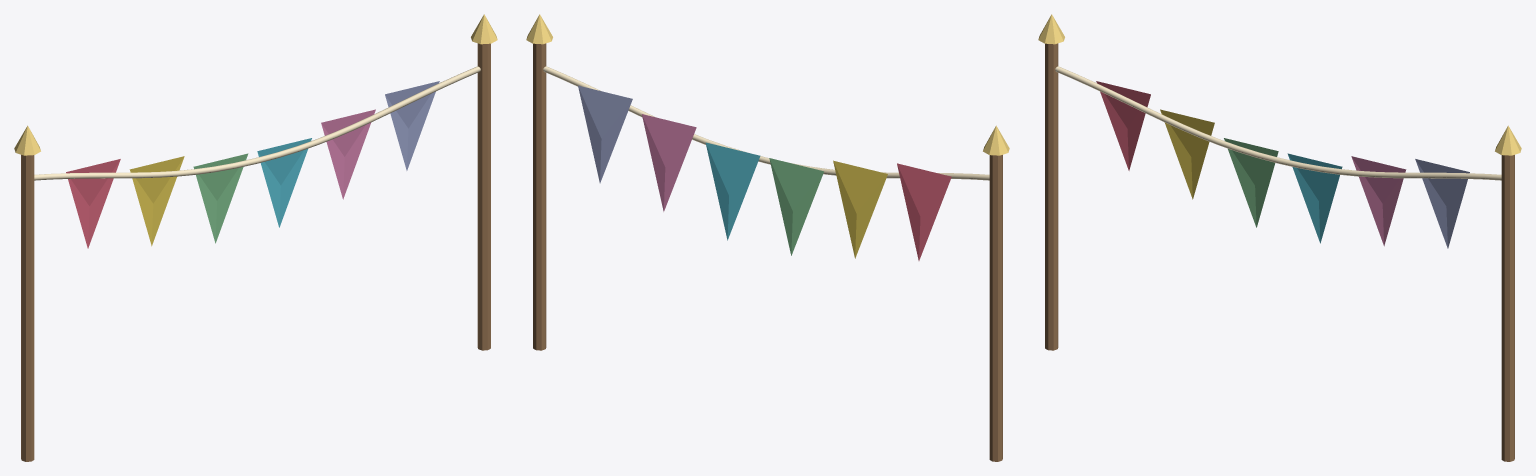
The model's file is festival-banner.glb.
The picture shows the model from 3 angles, left to right: view 1: azimuth 30°, elevation 25°; view 2: azimuth 150°, elevation 25°; view 3: azimuth 330°, elevation 25°; orthographic projection.
Visible parts, largest first — view 1: Festival_Stake_Left, Festival_Stake_Right, Festival_Rope, Festival_Pennant_02, Festival_Pennant_01, Festival_Pennant_03, Festival_Pennant_05, Festival_Pennant_04, Festival_Pennant_06; view 2: Festival_Stake_Left, Festival_Stake_Right, Festival_Pennant_04, Festival_Pennant_06, Festival_Pennant_01, Festival_Pennant_02, Festival_Pennant_05, Festival_Pennant_03, Festival_Rope; view 3: Festival_Stake_Right, Festival_Stake_Left, Festival_Rope, Festival_Pennant_05, Festival_Pennant_06, Festival_Pennant_04, Festival_Pennant_02, Festival_Pennant_03, Festival_Pennant_01.
Part boxes in pixels (<box>): Festival_Stake_Left: <box>21,155,34,461</box>; Festival_Stake_Right: <box>477,43,490,350</box>; Festival_Rope: <box>34,66,480,180</box>; Festival_Pennant_02: <box>129,156,184,246</box>; Festival_Pennant_01: <box>66,159,120,248</box>; Festival_Pennant_03: <box>193,153,248,243</box>; Festival_Pennant_05: <box>321,109,375,199</box>; Festival_Pennant_04: <box>257,138,311,227</box>; Festival_Pennant_06: <box>385,81,439,170</box>; Festival_Stake_Left: <box>989,155,1002,461</box>; Festival_Stake_Right: <box>533,43,546,350</box>; Festival_Pennant_04: <box>705,142,760,240</box>; Festival_Pennant_06: <box>578,85,632,183</box>; Festival_Pennant_01: <box>897,163,951,260</box>; Festival_Pennant_02: <box>833,160,887,258</box>; Festival_Pennant_05: <box>641,114,696,211</box>; Festival_Pennant_03: <box>769,158,823,255</box>; Festival_Rope: <box>543,66,989,180</box>; Festival_Stake_Right: <box>1501,155,1514,461</box>; Festival_Stake_Left: <box>1045,43,1058,350</box>; Festival_Rope: <box>1055,66,1501,180</box>; Festival_Pennant_05: <box>1351,156,1406,246</box>; Festival_Pennant_06: <box>1415,159,1469,248</box>; Festival_Pennant_04: <box>1287,153,1342,243</box>; Festival_Pennant_02: <box>1160,109,1214,199</box>; Festival_Pennant_03: <box>1224,138,1278,227</box>; Festival_Pennant_01: <box>1096,81,1150,170</box>.
Size of the model in its own units: 0.716 by 0.475 by 0.04.
